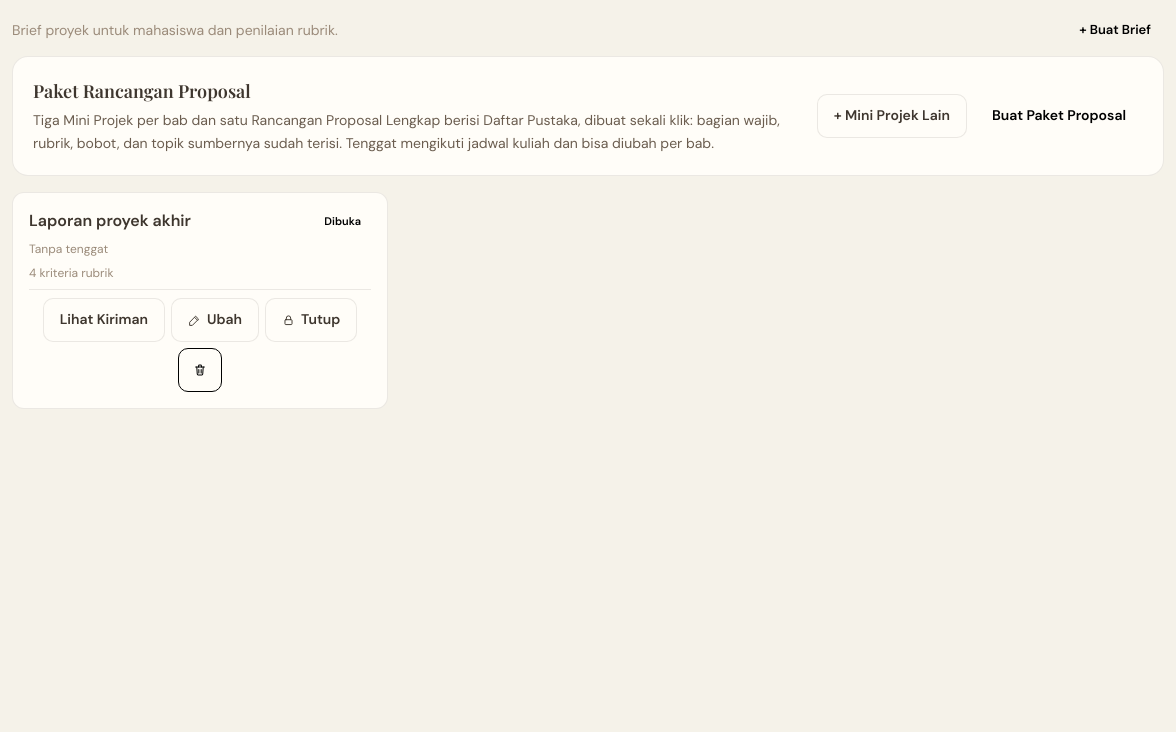
Test: TugasAkhirPanel — dosen › klik "Lihat Kiriman" menampilkan nama mahasiswa
Expected: the heading "Laporan proyek akhir" is shown, [29,209,191,233]
Click the button "Lihat Kiriman".
click(104, 320)  # box [43,298,165,342]
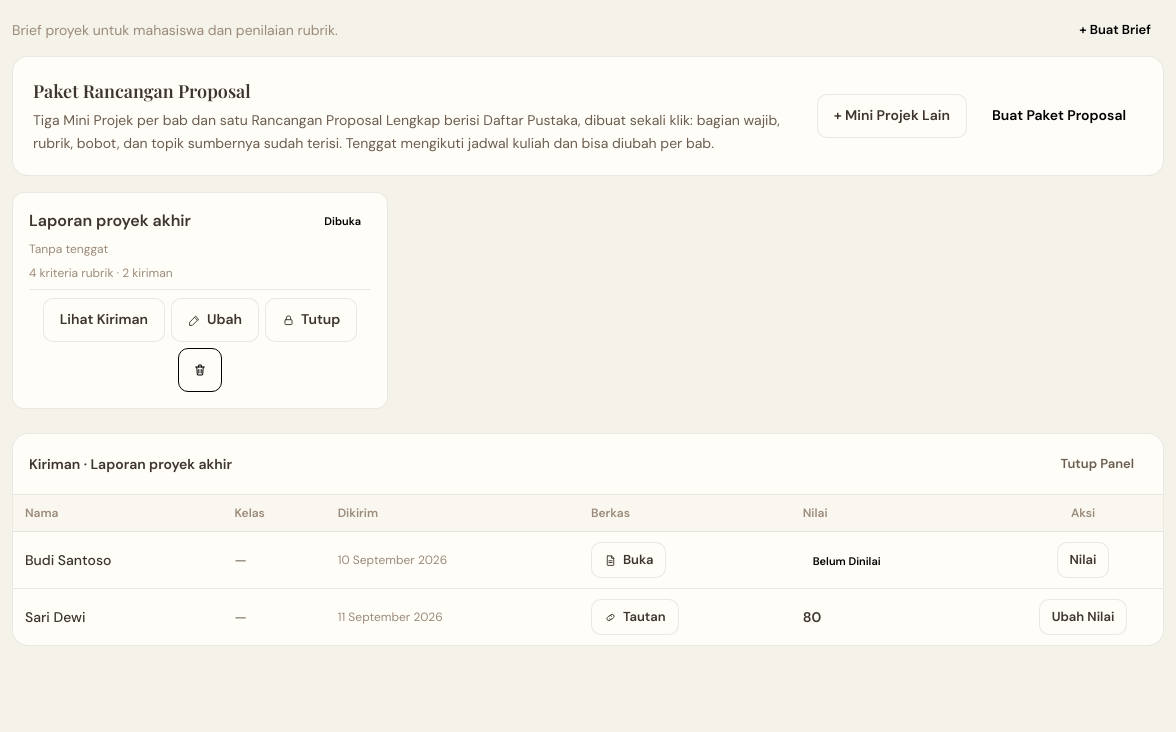
Expected: the text "Budi Santoso" is shown, [13,532,222,588]
Expected: the text "Sari Dewi" is shown, [13,588,222,645]
